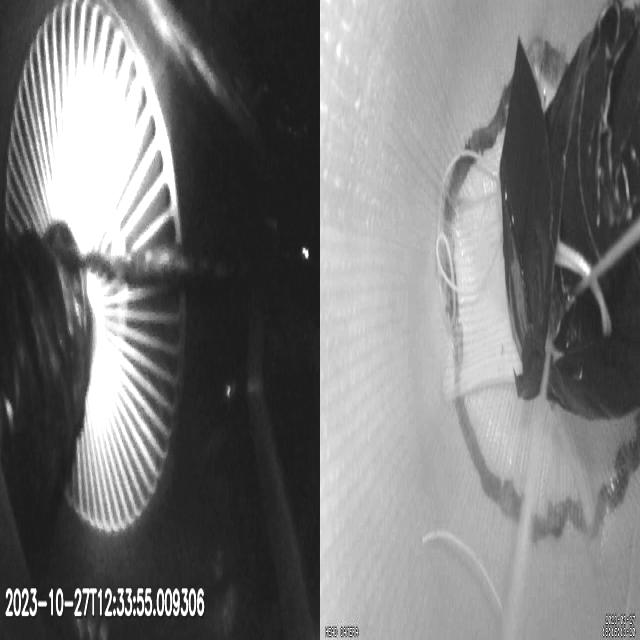red-circle: (442, 30, 640, 538)
